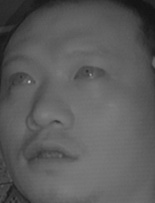eye: (72, 61, 106, 85), (6, 67, 38, 89)
mouth: (24, 135, 82, 170)
